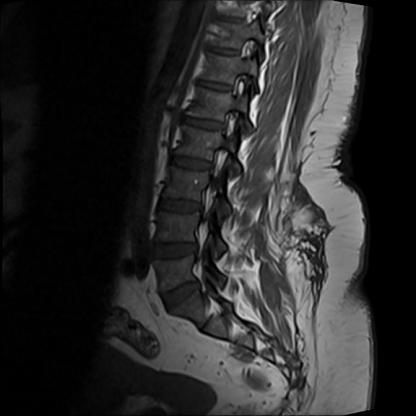Disc Bulgerotation: (157, 282, 210, 311)
